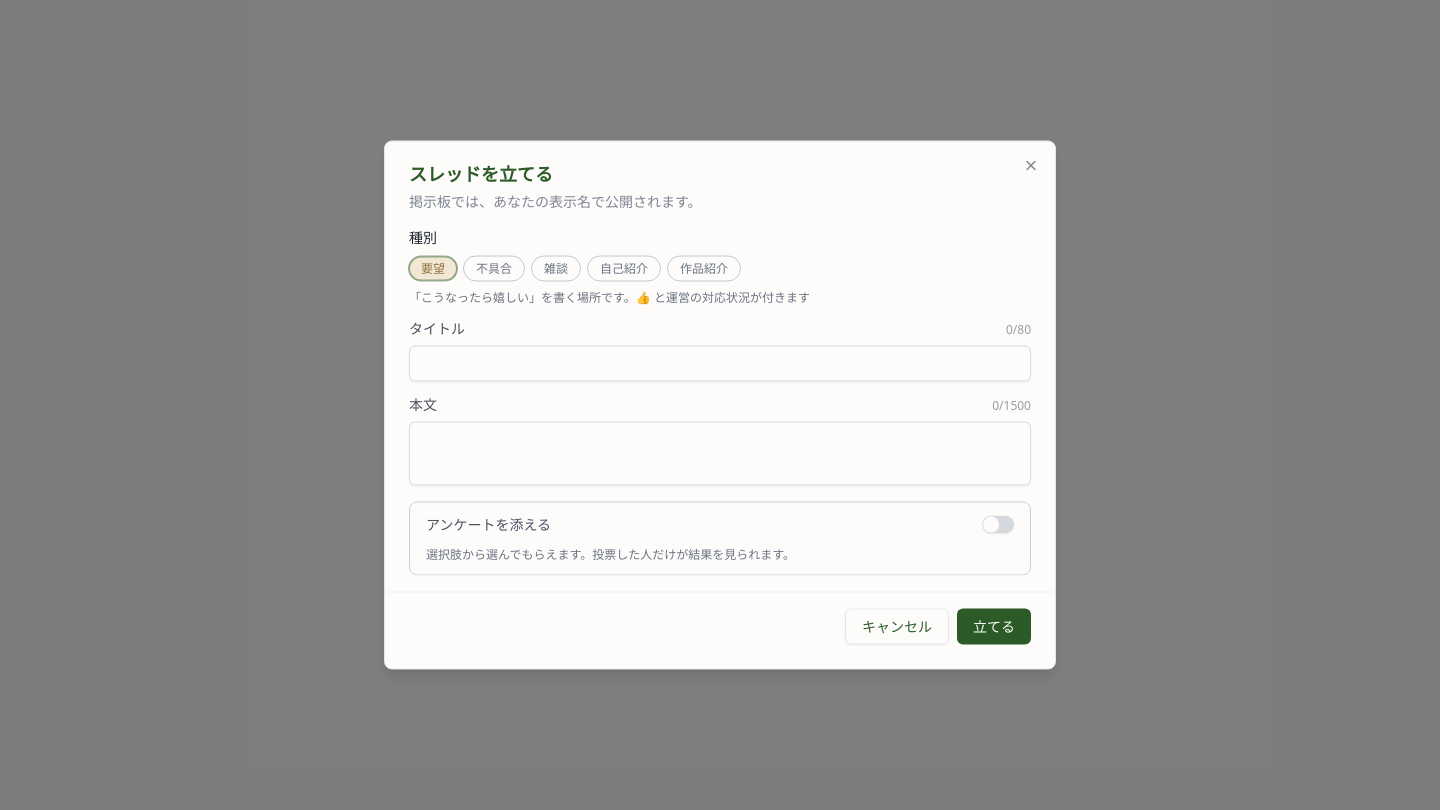
NewThreadDialog — 種別（D-BOARD-KIND） › 要望と不具合は、書くことの違いが一言で分かる
Expected: the text "「こうなったら嬉しい」を書く場所です。👍 と運営の対応状況が付きます" is shown, 409,288 -> 810,306
What coordinates should you click on to do the following:
click the button "不具合"
I would click on:
 (494, 268)
Its box is 463,256 -> 525,282.
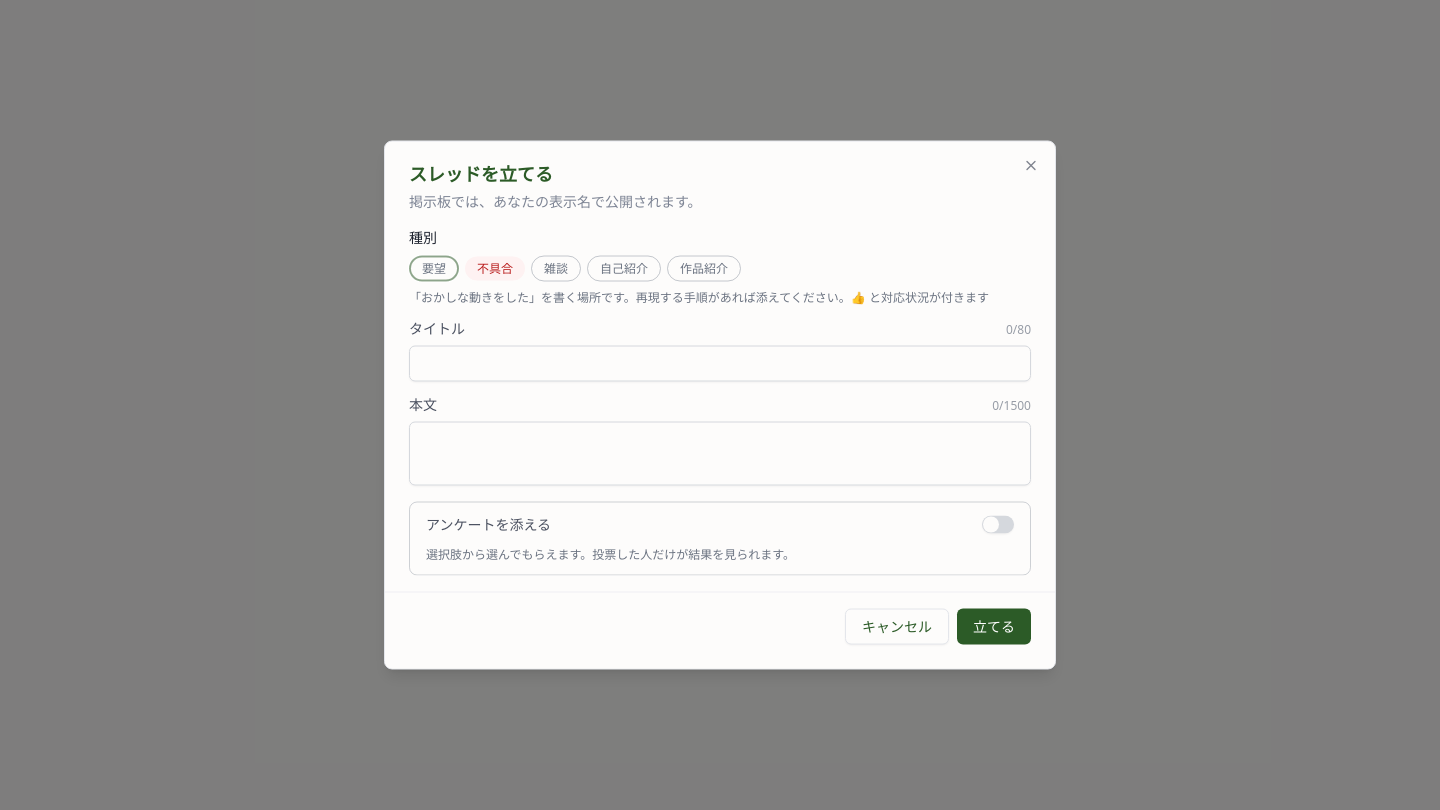
Now the text "「おかしな動きをした」を書く場所です。再現する手順があれば添えてください。👍 と対応状況が付きます" is shown, box 409,290 -> 1031,306
